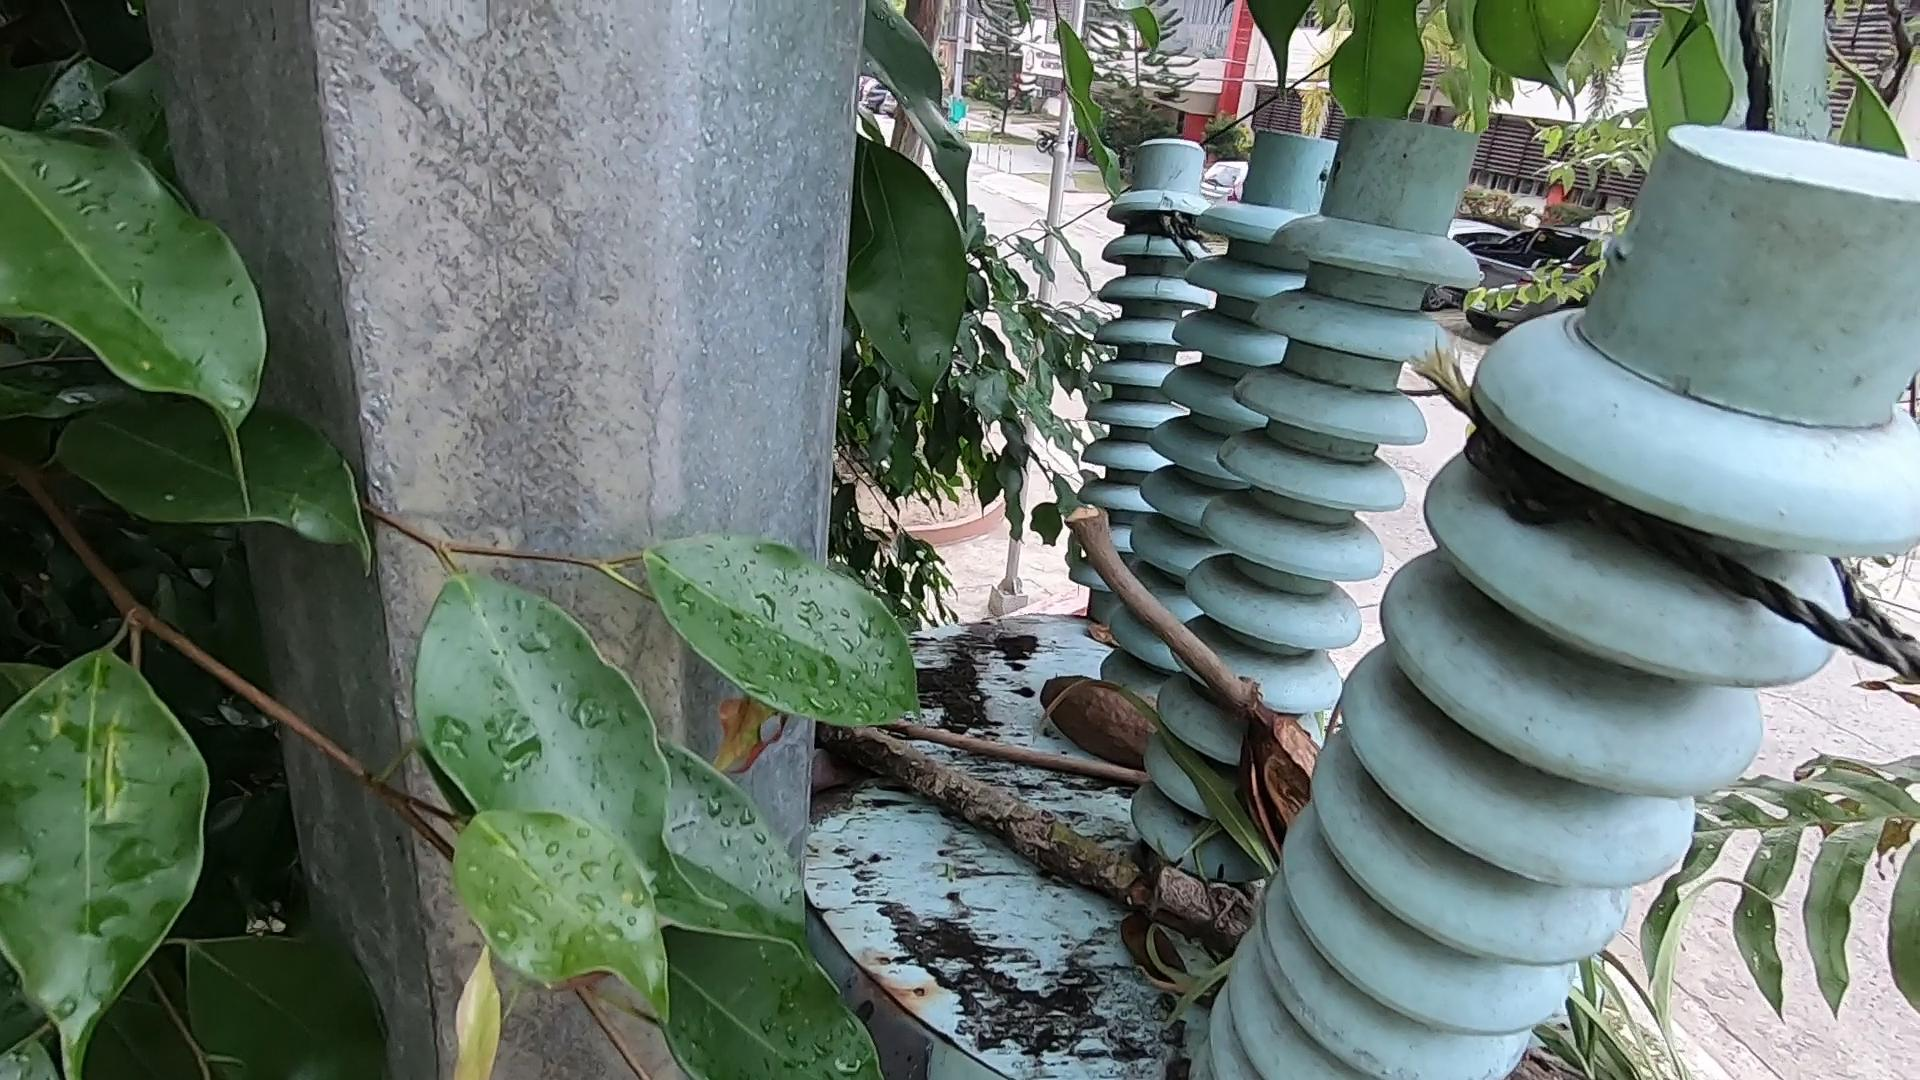branch with leaves: (831, 728, 1249, 924)
leaf: (1164, 728, 1664, 1077), (1131, 911, 1197, 994), (1087, 615, 1116, 649)
mahogany fruit: (1036, 647, 1179, 786), (1224, 692, 1333, 847)
tree branch: (1087, 516, 1291, 740), (884, 719, 1154, 785)
